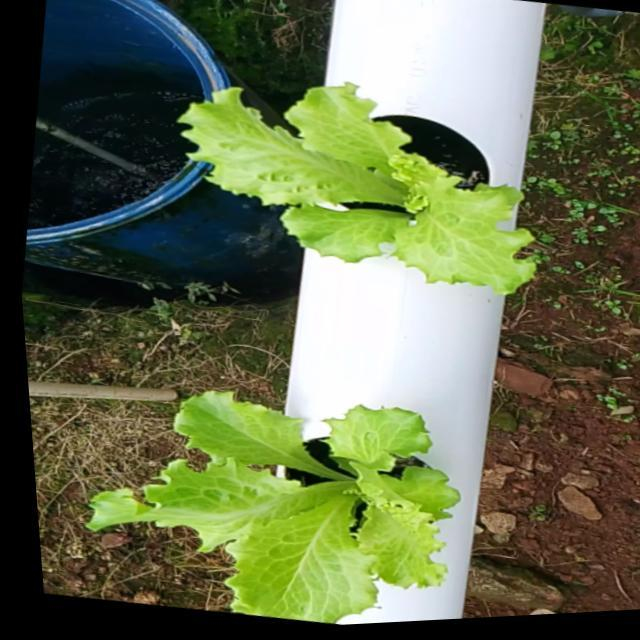Baby: (86, 382, 457, 623), (167, 65, 531, 279)
